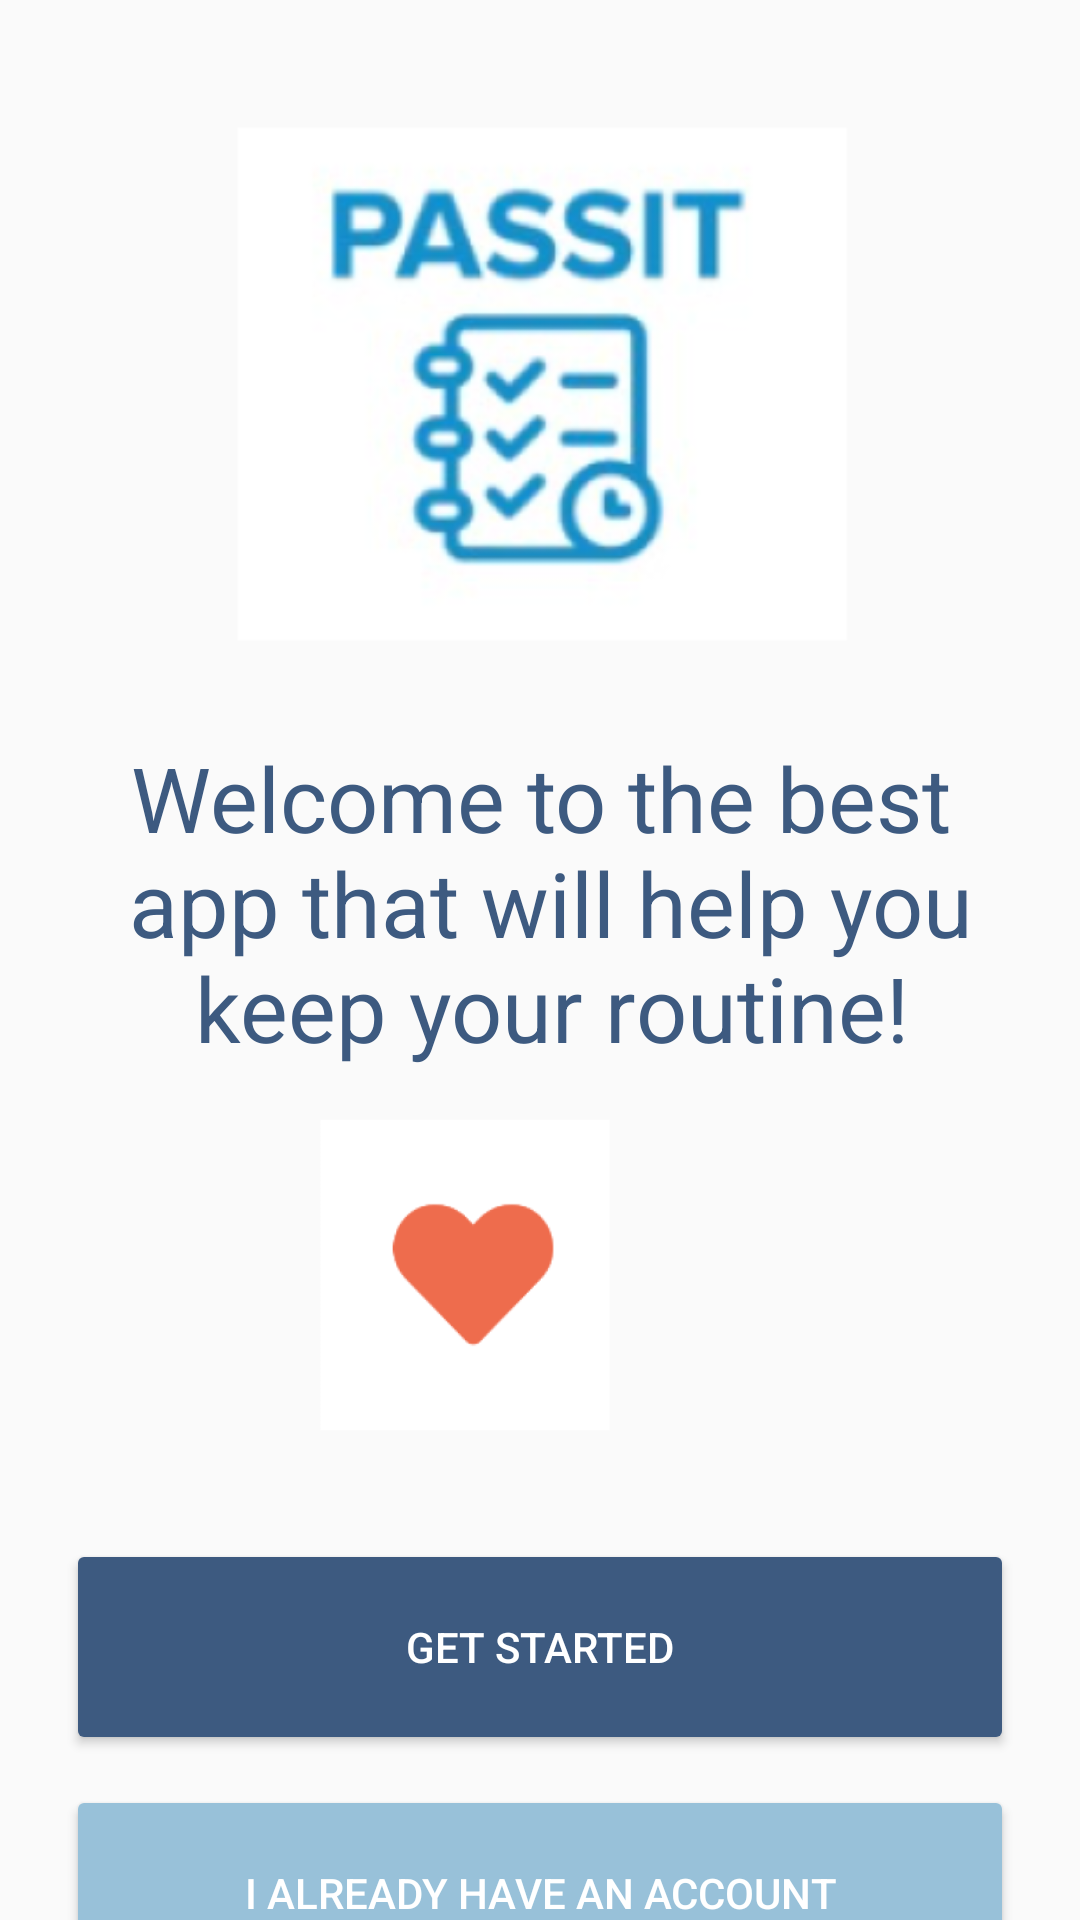

Icons on this 1080w x 1920h Android screen, each with the point to tap as [x,y]:
heart: [473,1275]
